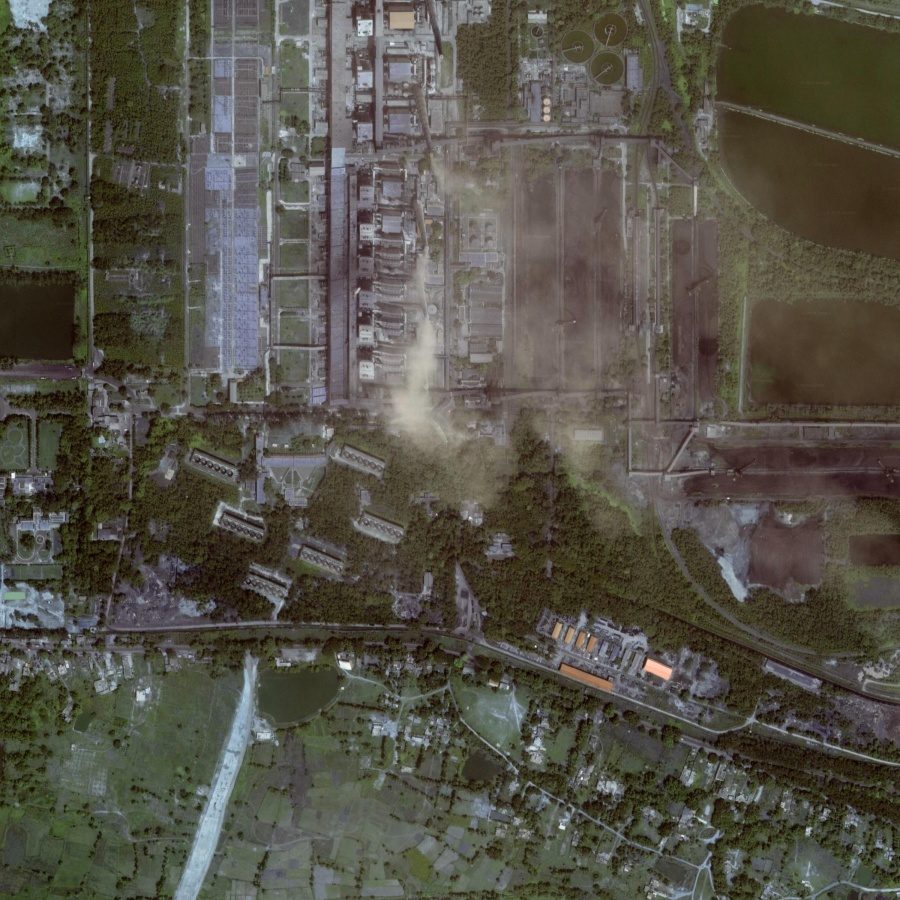PowerPlant: (400, 138, 730, 459)
